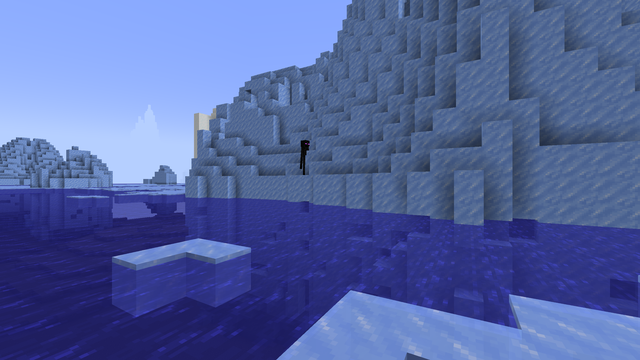endermens: (299, 138, 309, 165)
